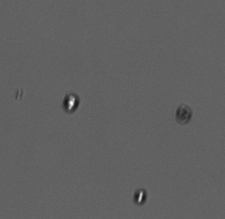Dead Cell: (173, 103, 193, 126)
Living Cell: (62, 92, 80, 113), (132, 187, 150, 206)
